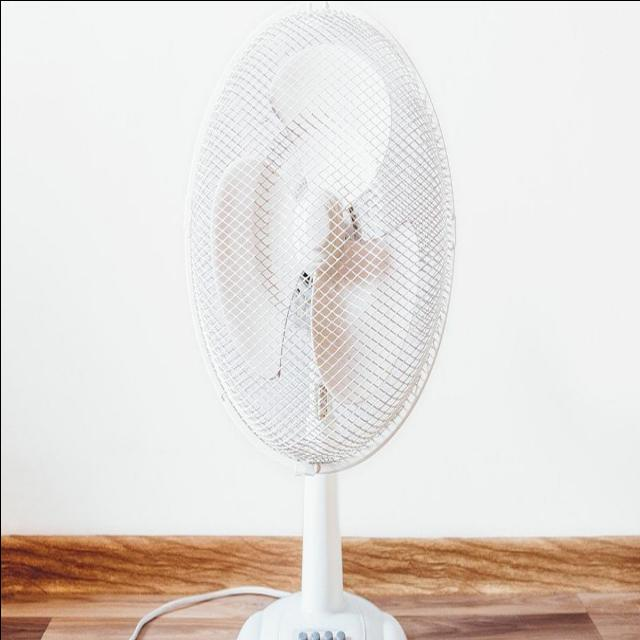fan: (184, 10, 451, 640)
